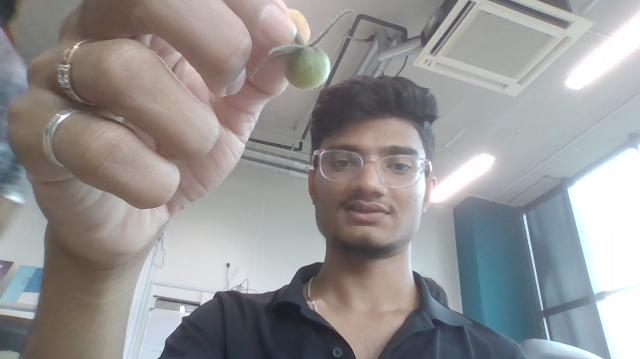Fruit Maturation: (283, 44, 330, 91)
